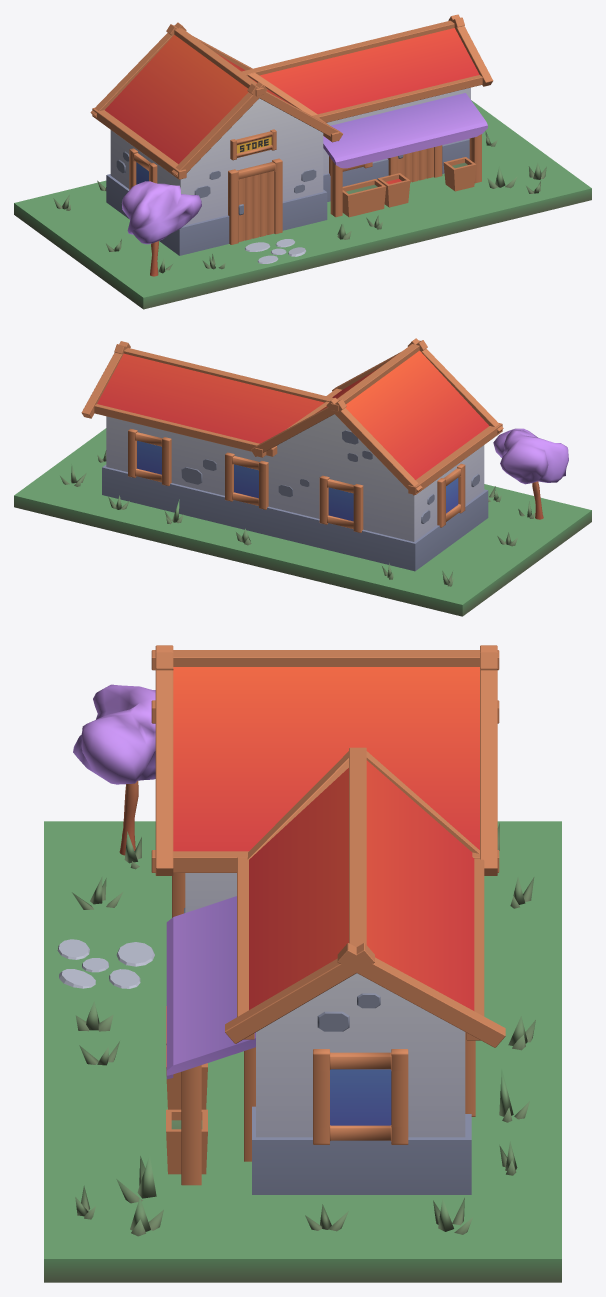
Rendered from general_store_cen.glb.
3 renders of one model, top to bottom at view 1: azimuth 30°, elevation 25°; view 2: azimuth 150°, elevation 25°; view 3: azimuth 270°, elevation 25°, orthographic. The views are drawn at different scales.
Parts seen in each view (by area): view 1: general_store_cen; view 2: general_store_cen; view 3: general_store_cen.
Part boxes in pixels (x1=…): general_store_cen: x1=14, y1=14, x2=591, y2=309; general_store_cen: x1=14, y1=338, x2=591, y2=616; general_store_cen: x1=44, y1=645, x2=561, y2=1282.
Size of the model in its own units: 2 by 0.7169 by 1.
Materials: 1 (1 with a texture image).
